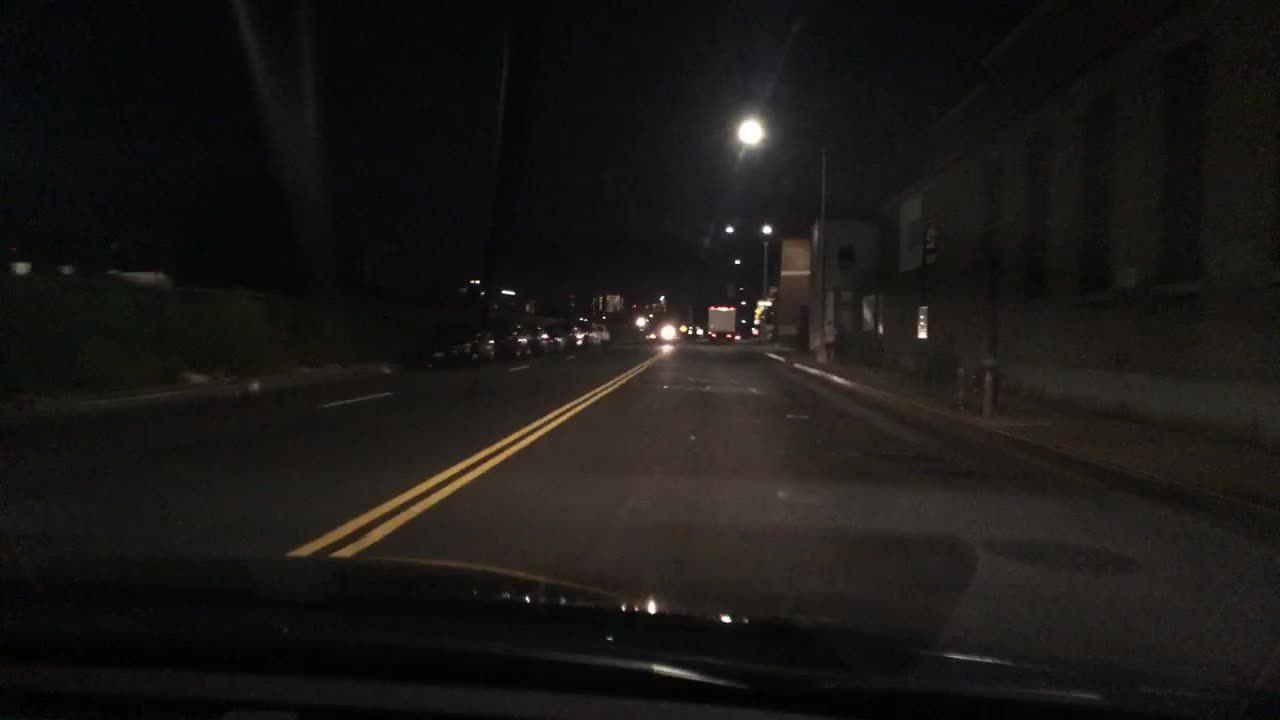car: (422, 324, 499, 368), (487, 314, 535, 361), (523, 319, 555, 356), (543, 320, 567, 354), (562, 317, 589, 347), (580, 320, 602, 346), (656, 322, 683, 342), (595, 322, 614, 341)
truck: (705, 305, 735, 341)
